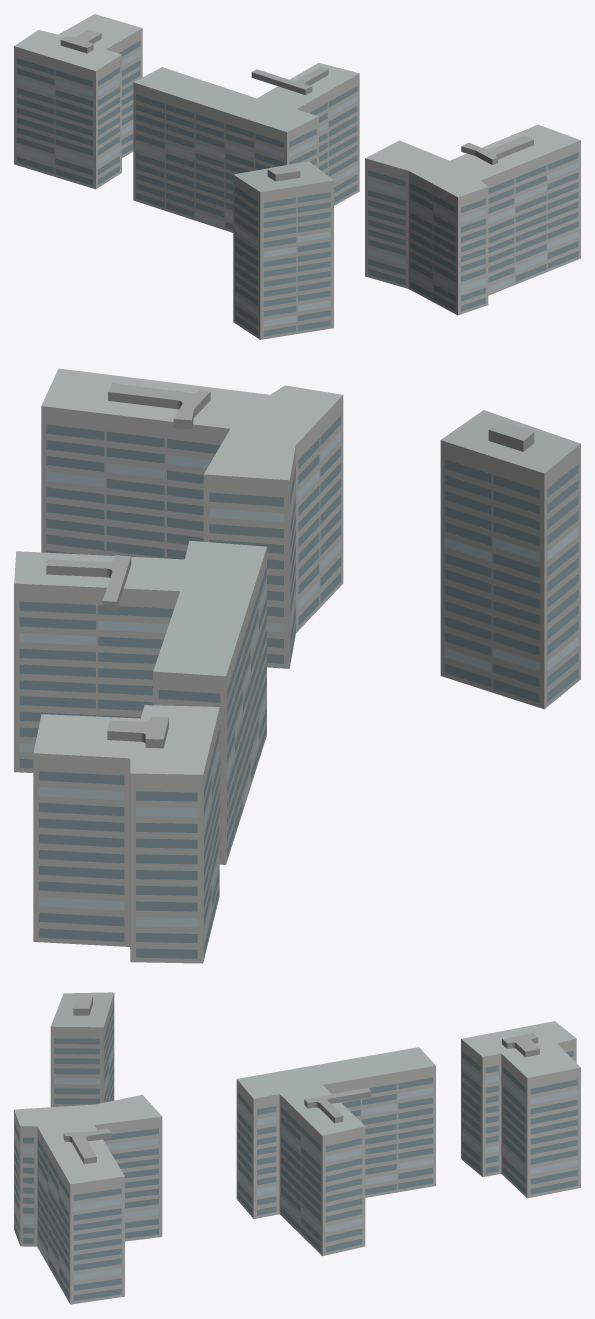
The model's file is apt-a13176102.glb.
3 renders of one model, top to bottom at view 1: azimuth 30°, elevation 25°; view 2: azimuth 150°, elevation 25°; view 3: azimuth 270°, elevation 25°, orthographic. The views are drawn at different scales.
Visible parts, largest first — view 1: apt-a13176102; view 2: apt-a13176102; view 3: apt-a13176102.
Part boxes in pixels (<box>): apt-a13176102: <box>14,14,580,339</box>; apt-a13176102: <box>14,368,580,963</box>; apt-a13176102: <box>14,992,580,1304</box>.
Bounding box in the file's own units: 88.96 × 40 × 131.
